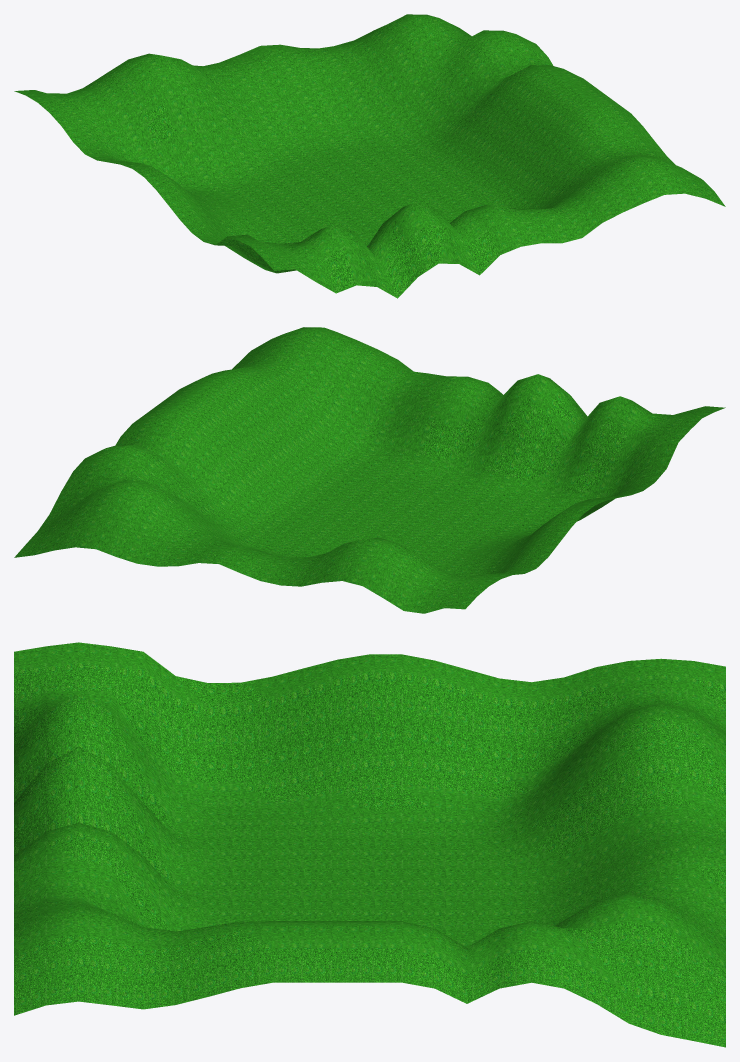
File: teren.obj
The picture shows the model from 3 angles, top to bottom: view 1: azimuth 30°, elevation 25°; view 2: azimuth 150°, elevation 25°; view 3: azimuth 270°, elevation 25°; orthographic projection. The views are drawn at different scales.
Parts seen in each view (by area): view 1: Plane; view 2: Plane; view 3: Plane.
Part boxes in pixels (left/top/right/bottom): Plane: left=14, top=14, right=725, bottom=298; Plane: left=14, top=327, right=725, bottom=613; Plane: left=14, top=642, right=725, bottom=1047.
Size of the model in its own units: 200 by 35.21 by 200.
